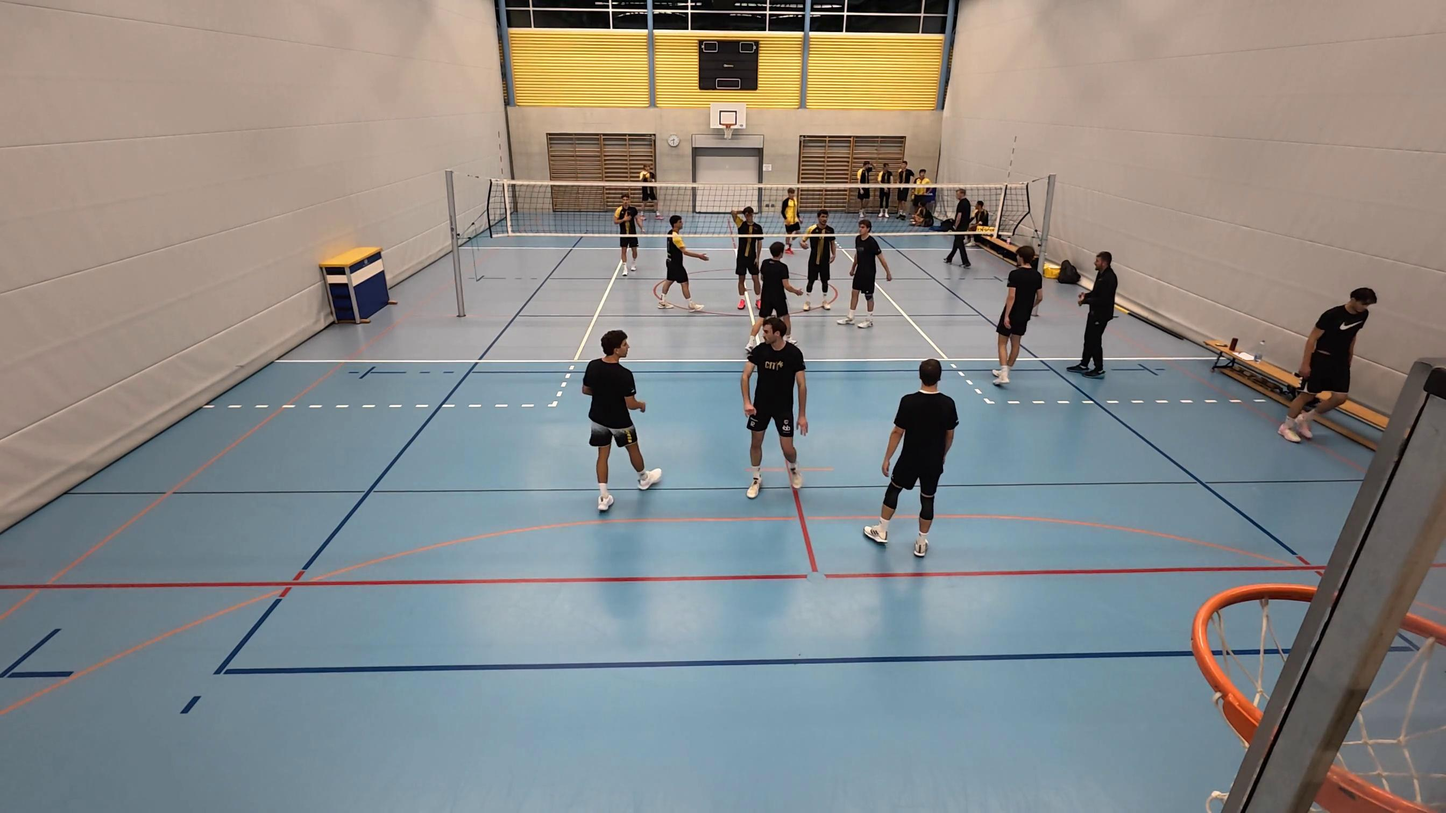Player: (863, 359, 958, 557), (582, 330, 662, 511), (742, 316, 807, 498), (990, 246, 1042, 385), (746, 241, 806, 348), (836, 217, 891, 329), (656, 216, 708, 312), (798, 210, 839, 312), (731, 206, 763, 312), (612, 192, 643, 276), (781, 186, 803, 254), (636, 165, 659, 230)
ball: (643, 171, 650, 179)
